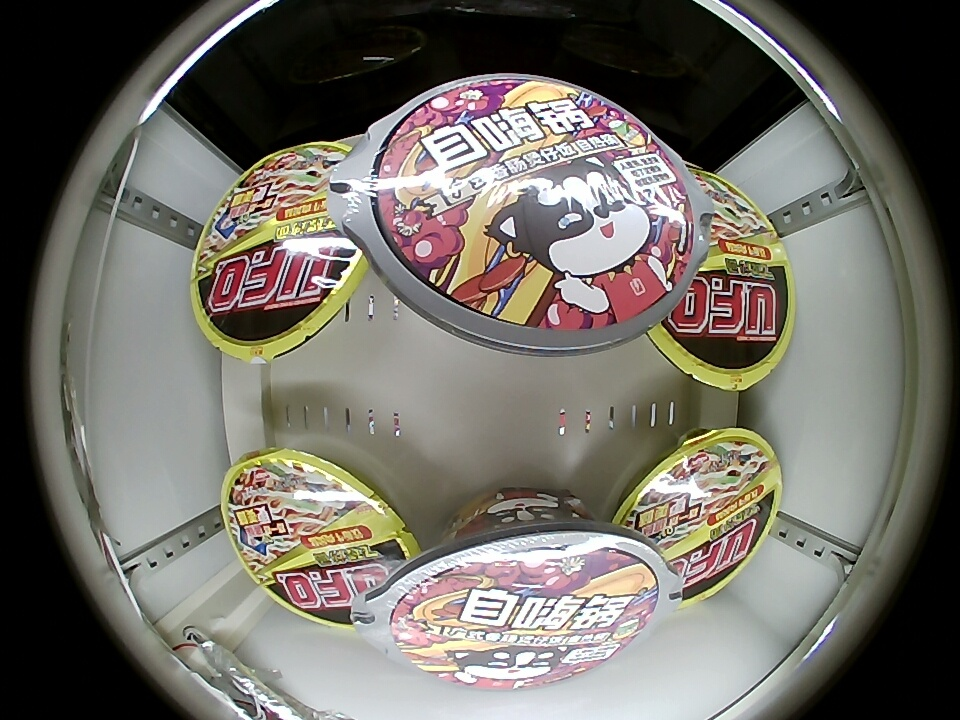ufo: (190, 141, 368, 363), (220, 449, 421, 633), (647, 168, 794, 391), (613, 427, 782, 606)
zihaiguo: (369, 79, 694, 329), (390, 549, 658, 692)
